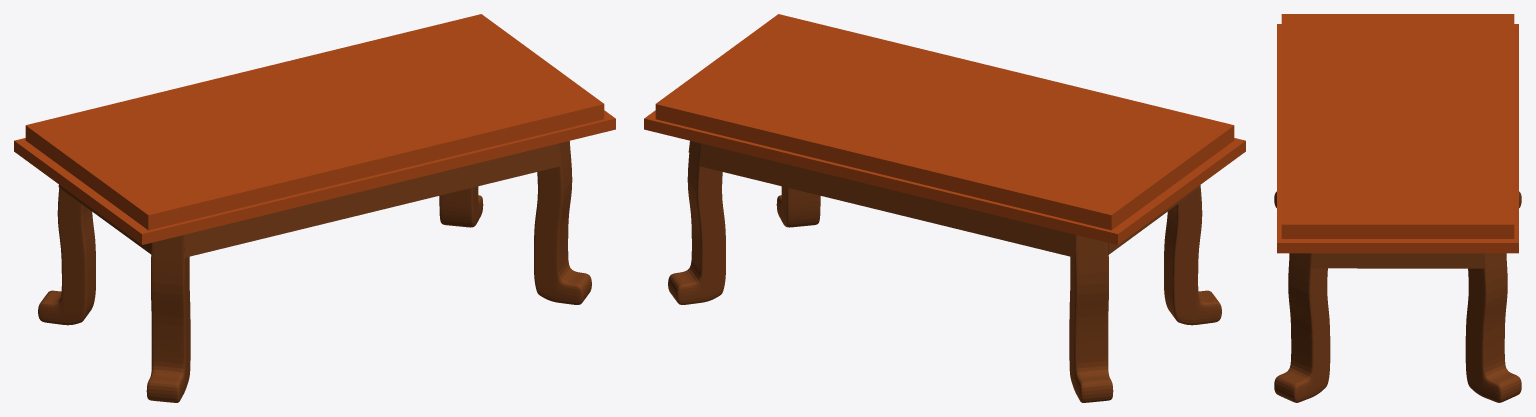
The model's file is Mesa_escritorio.fbx.
The picture shows the model from 3 angles, left to right: view 1: azimuth 30°, elevation 25°; view 2: azimuth 150°, elevation 25°; view 3: azimuth 270°, elevation 25°; orthographic projection. The views are drawn at different scales.
Parts seen in each view (by area): view 1: Cube.001, Cube.002, Cube.003; view 2: Cube.001, Cube.002, Cube.003; view 3: Cube.001, Cube.002, Cube.004.
Part boxes in pixels (left/top/right/bottom): Cube.001: left=14, top=14, right=615, bottom=244; Cube.002: left=38, top=141, right=591, bottom=402; Cube.003: left=184, top=143, right=560, bottom=257; Cube.001: left=644, top=14, right=1245, bottom=244; Cube.002: left=668, top=141, right=1221, bottom=402; Cube.003: left=699, top=143, right=1075, bottom=257; Cube.001: left=1277, top=14, right=1518, bottom=253; Cube.002: left=1274, top=191, right=1521, bottom=402; Cube.004: left=1311, top=253, right=1485, bottom=268.
Size of the model in its own units: 1515 by 592 by 725.
